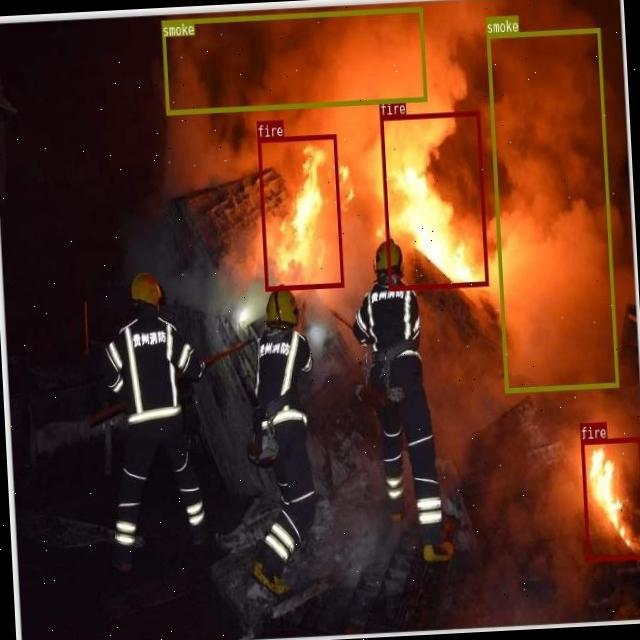fire: (379, 110, 488, 290), (258, 134, 344, 291), (580, 436, 640, 560)
smoke: (486, 27, 618, 392), (161, 7, 427, 115)
